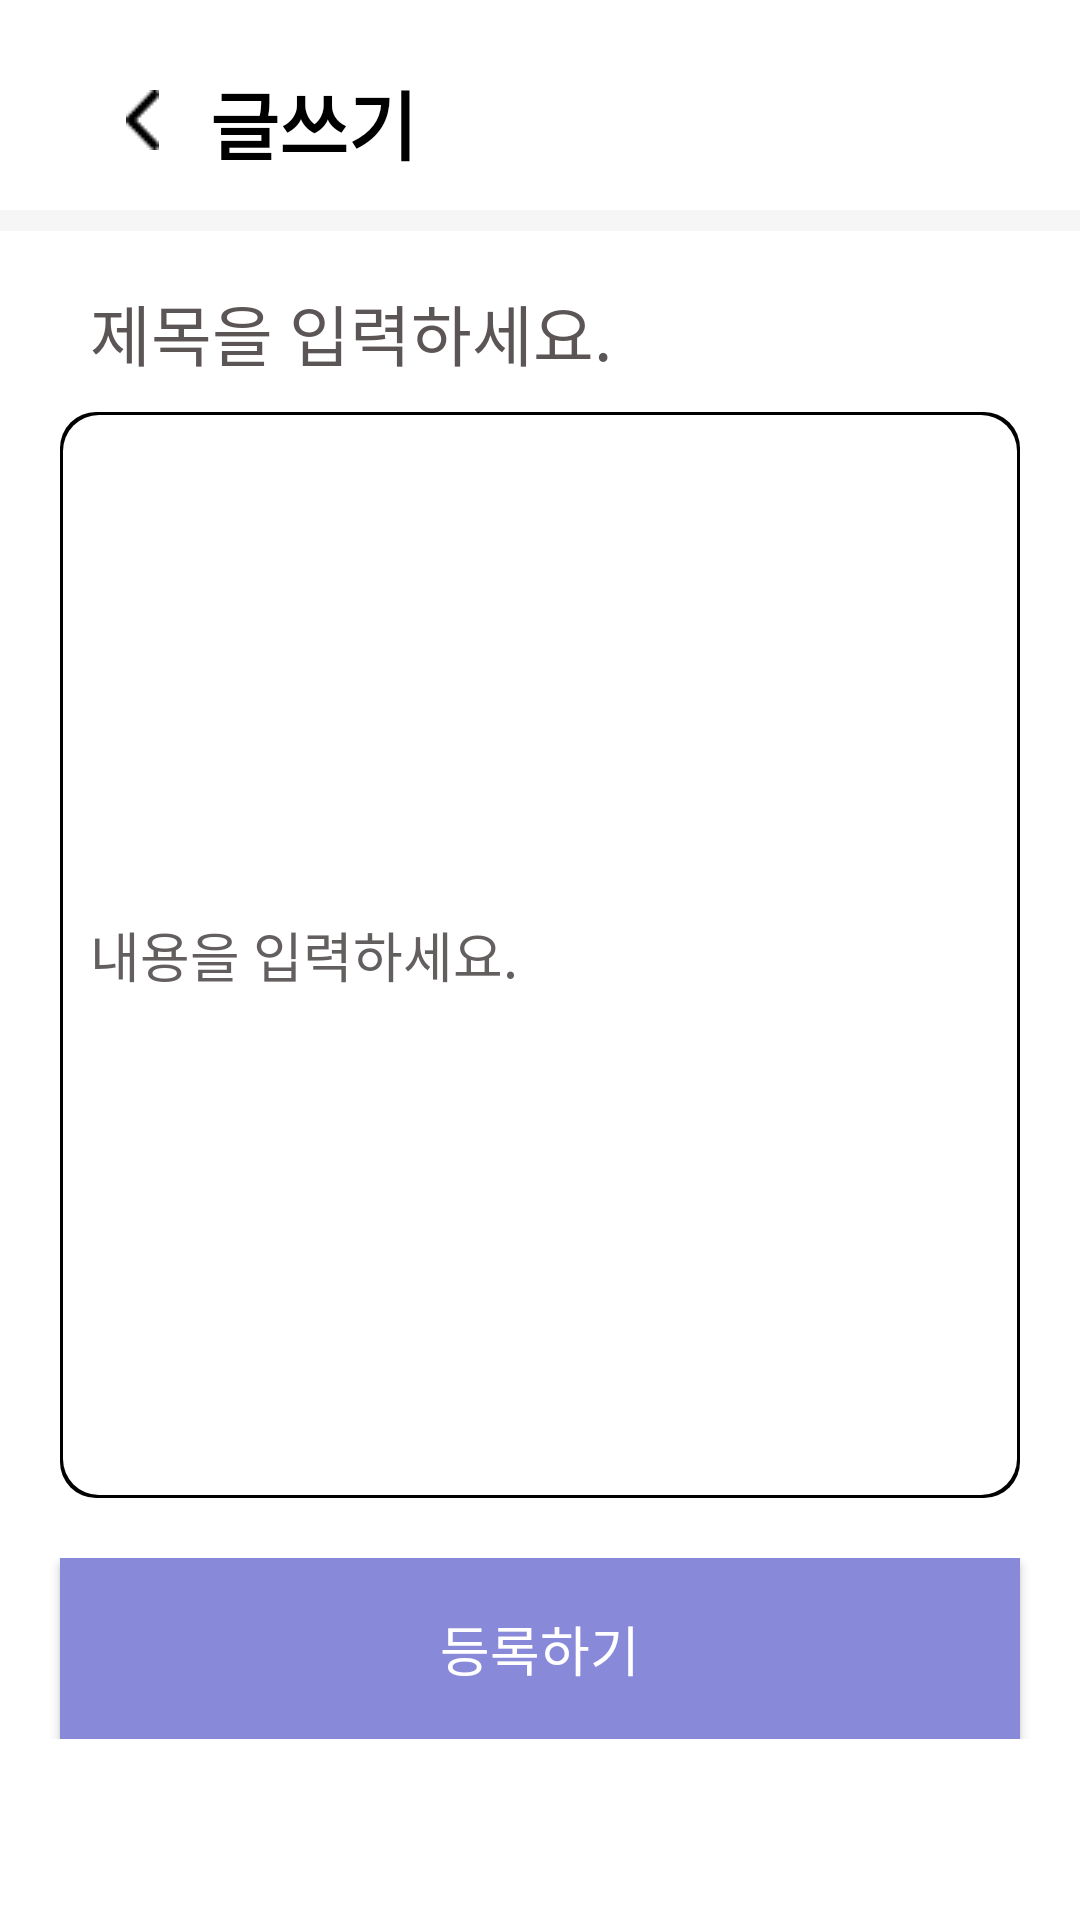

Icon click points for this 1080w x 1920h phone screenshot, format (x=x, y=y):
arrow left: (x=142, y=120)
